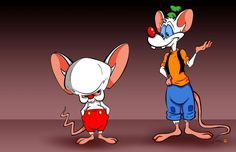cerebro: (44, 38, 132, 147)
pink: (138, 5, 230, 142)
